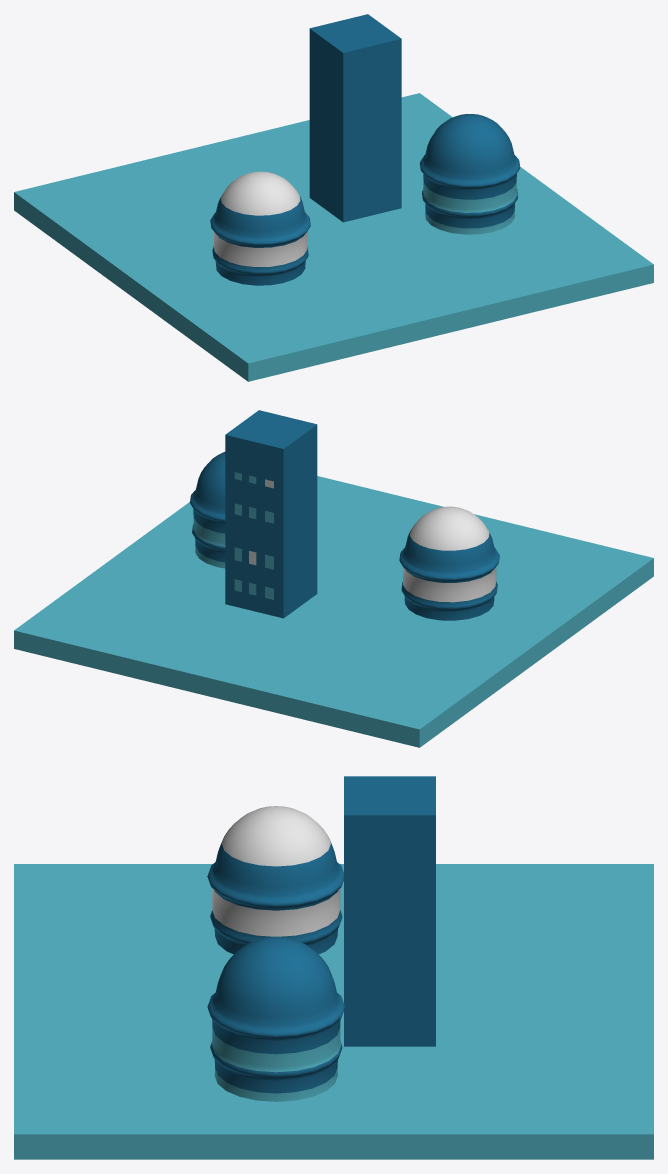
Rendered from factory_building-1.gltf.
3 renders of one model, top to bottom at view 1: azimuth 30°, elevation 25°; view 2: azimuth 150°, elevation 25°; view 3: azimuth 270°, elevation 25°, orthographic. The views are drawn at different scales.
Visible parts, largest first — view 1: pCube15, pCube23, pSphere6, pSphere7; view 2: pCube15, pCube23, pSphere7, pSphere6; view 3: pCube15, pCube23, pSphere6, pSphere7.
Part boxes in pixels (x1,y1,x2,y2): pCube15: [14, 93, 653, 381]; pCube23: [309, 14, 401, 222]; pSphere6: [419, 114, 520, 234]; pSphere7: [210, 171, 310, 285]; pCube15: [14, 476, 653, 747]; pCube23: [225, 410, 317, 618]; pSphere7: [399, 506, 499, 620]; pSphere6: [190, 452, 225, 568]; pCube15: [14, 864, 653, 1159]; pCube23: [344, 776, 435, 1046]; pSphere6: [207, 936, 344, 1101]; pSphere7: [207, 806, 343, 954].
Size of the model in its own units: 1.47 by 0.6921 by 1.47.
